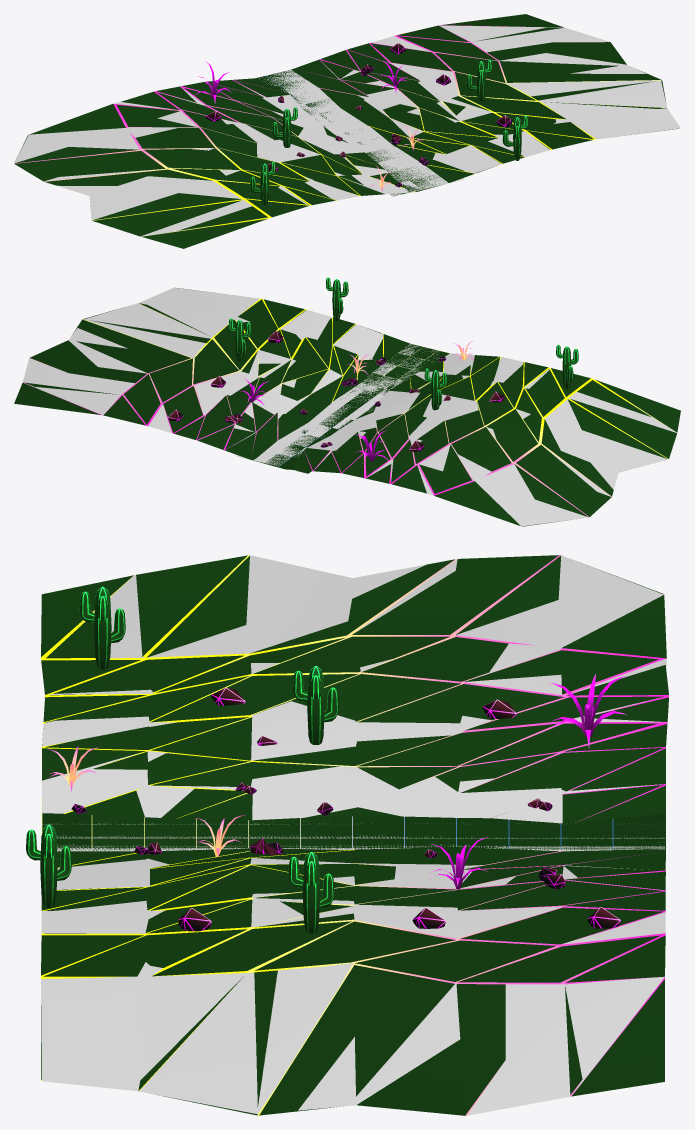
The model's file is Terrain_Desert_Start_1.fbx.
3 views of the same model, one above another, from view 1: azimuth 30°, elevation 25°; view 2: azimuth 150°, elevation 25°; view 3: azimuth 270°, elevation 25° (orthographic). The views are drawn at different scales.
Parts seen in each view (by area): view 1: Terrain_Desert_Start_1, Terrain_Desert_Start_1_Colider; view 2: Terrain_Desert_Start_1, Terrain_Desert_Start_1_Colider; view 3: Terrain_Desert_Start_1, Terrain_Desert_Start_1_Colider.
Boxes of the visible parts, x1,y1,x2,y2 form: Terrain_Desert_Start_1: [14, 14, 680, 248]; Terrain_Desert_Start_1_Colider: [14, 25, 680, 236]; Terrain_Desert_Start_1: [14, 277, 680, 526]; Terrain_Desert_Start_1_Colider: [22, 287, 676, 526]; Terrain_Desert_Start_1: [26, 555, 668, 1115]; Terrain_Desert_Start_1_Colider: [41, 555, 666, 1115].
Bounding box in the file's own units: 9752 × 860 × 4742.
